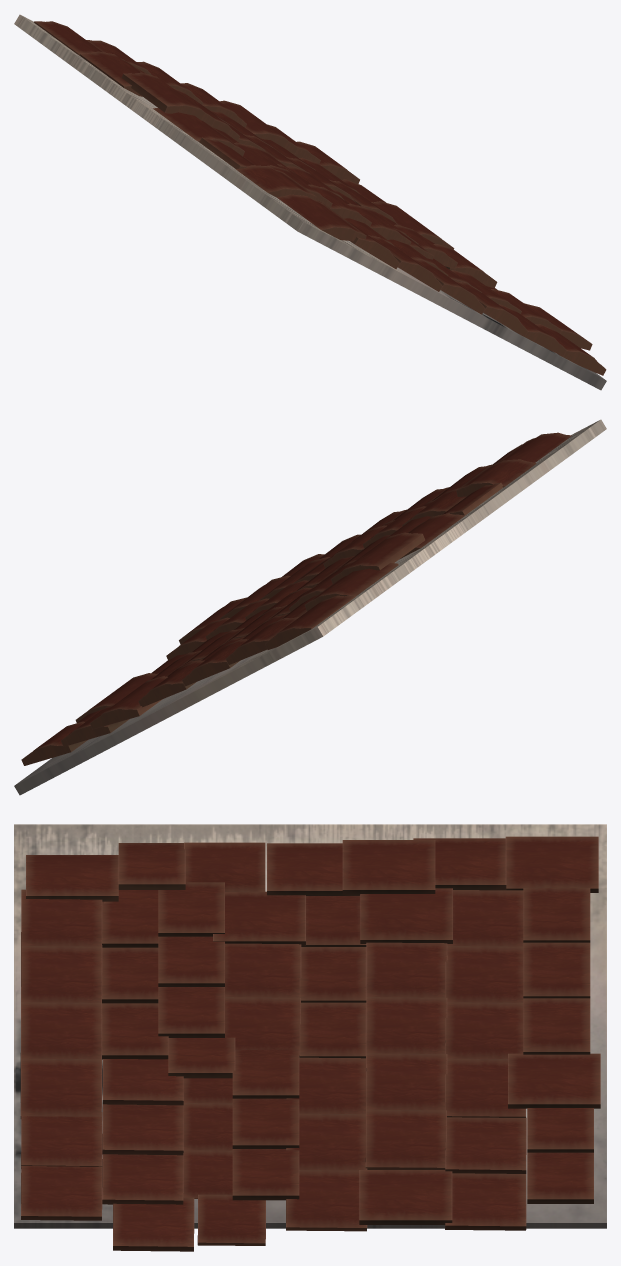
File: Roof_Half.fbx
3 renders of one model, top to bottom at view 1: azimuth 30°, elevation 25°; view 2: azimuth 150°, elevation 25°; view 3: azimuth 270°, elevation 25°, orthographic. The views are drawn at different scales.
Parts seen in each view (by area): view 1: Roof_Half; view 2: Roof_Half; view 3: Roof_Half.
Part boxes in pixels (x1=…): Roof_Half: x1=14, y1=14, x2=606, y2=390; Roof_Half: x1=14, y1=419, x2=606, y2=795; Roof_Half: x1=14, y1=824, x2=606, y2=1251.
Bounding box in the file's own units: 296 × 205 × 424.
